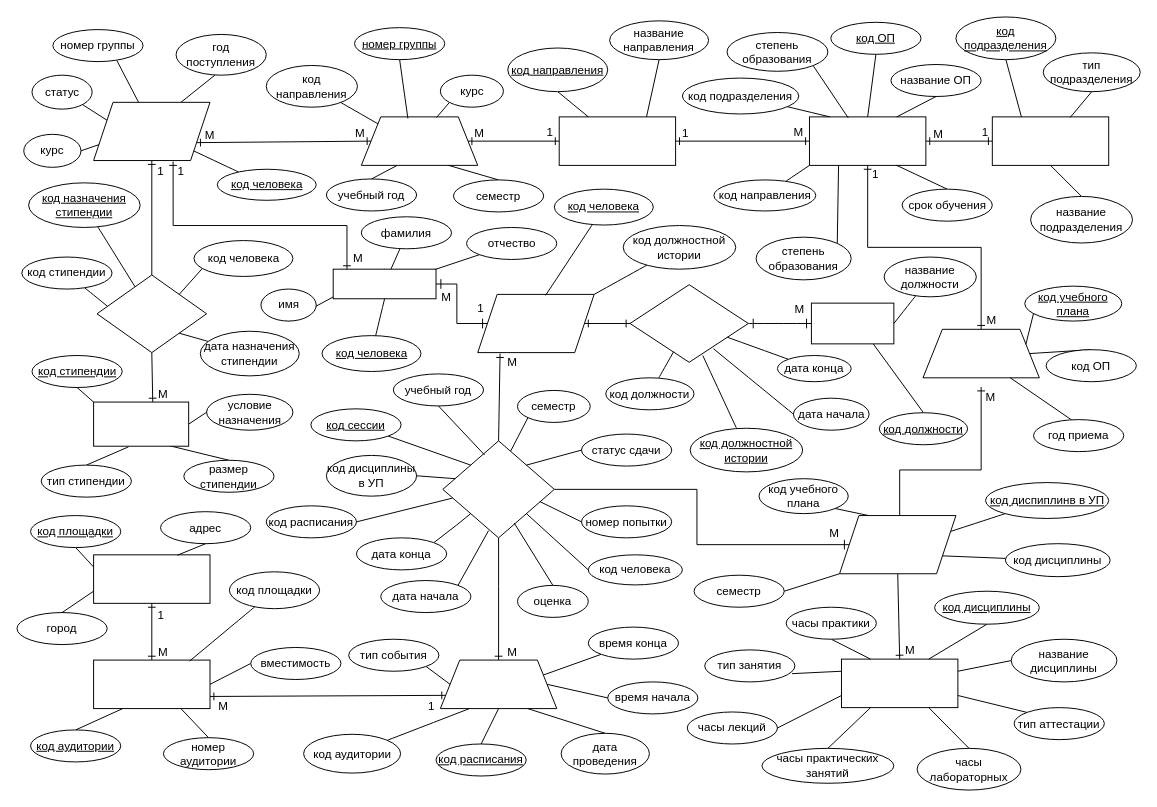
This 1157x807 diagram has some shape labels left out. Here are the shapes that lost their labels. From the top down, the box of each, then its label:
(93, 101, 210, 161): Студент
(360, 116, 478, 165): Группа
(558, 116, 676, 165): Направление
(808, 116, 926, 165): Образовательная программа
(991, 116, 1109, 165): Подразделение
(332, 268, 436, 299): Человек
(96, 274, 207, 353): Назначение стипендии
(477, 293, 594, 353): Преподаватель
(629, 284, 748, 362): Должностная история
(810, 302, 894, 344): Должность
(922, 328, 1039, 378): Учебный план
(93, 401, 189, 446): Стипендия
(442, 440, 554, 538): Сессия
(839, 515, 956, 574): Дисциплина в учебном плане
(93, 554, 210, 603): Площадка
(93, 659, 210, 709): Аудитория
(439, 659, 557, 709): Расписание
(841, 658, 958, 708): Дисциплина
